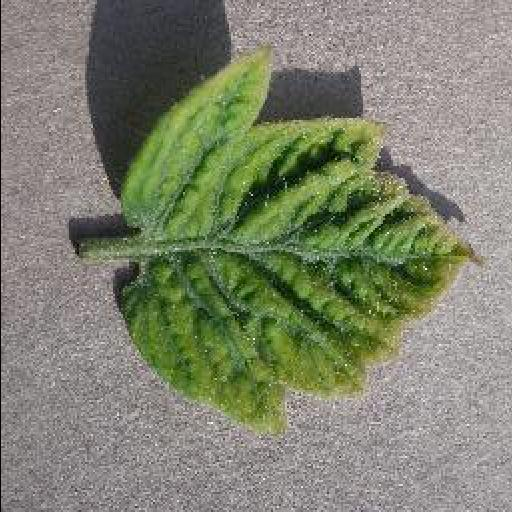disease_tomato: (118, 58, 486, 432)
